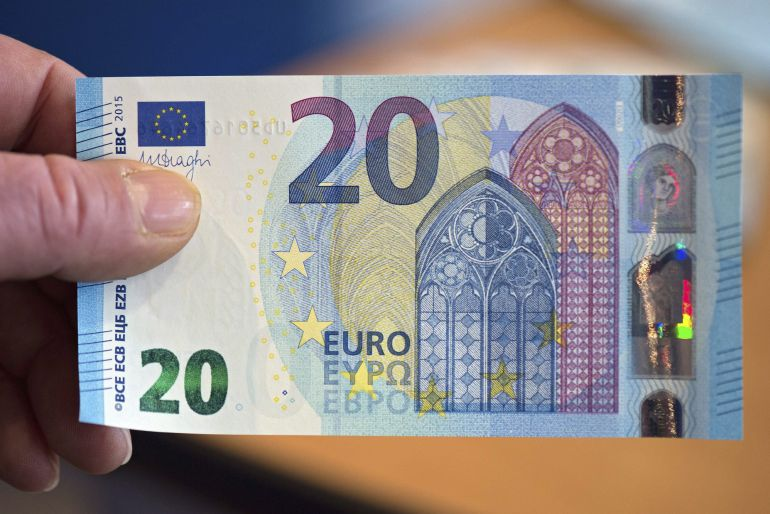billete: (71, 70, 747, 444)
